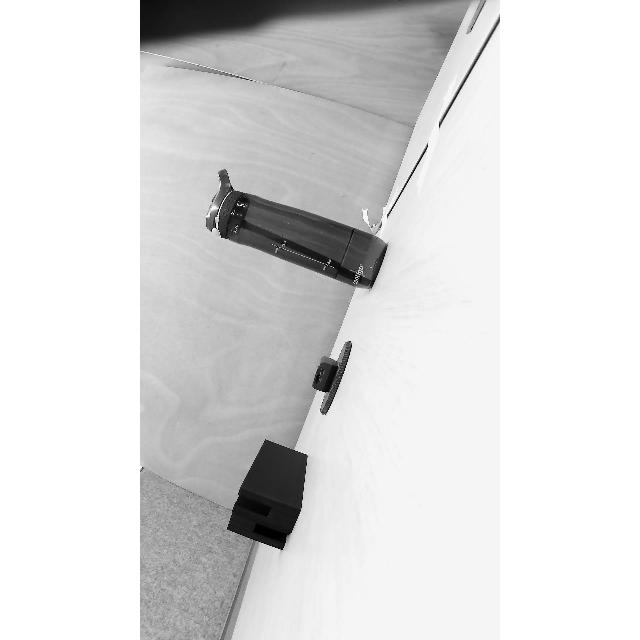targets: (195, 174, 387, 298), (224, 436, 316, 552), (310, 331, 362, 412)
